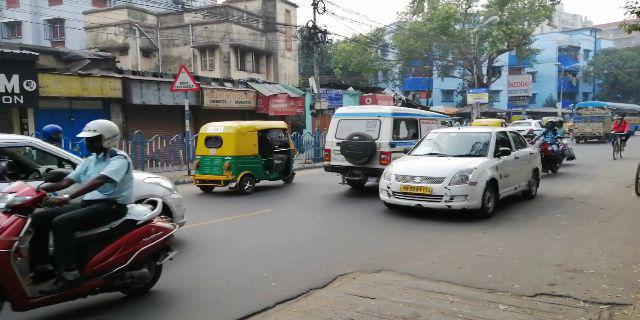Autorickshaw: (194, 115, 300, 195)
Car: (380, 134, 542, 210), (323, 107, 453, 189)
Cycle: (612, 110, 628, 162)
Motorbike: (1, 124, 171, 302)
